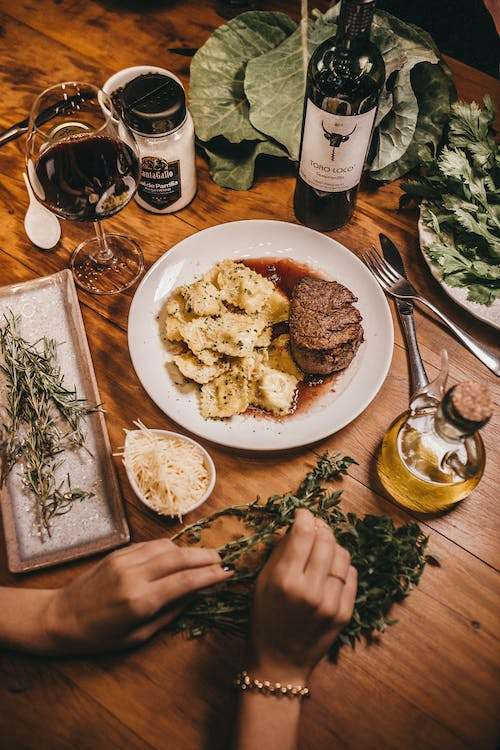alcohol: (24, 79, 146, 299), (289, 0, 387, 238)
knife: (376, 227, 439, 409), (0, 84, 99, 145)
